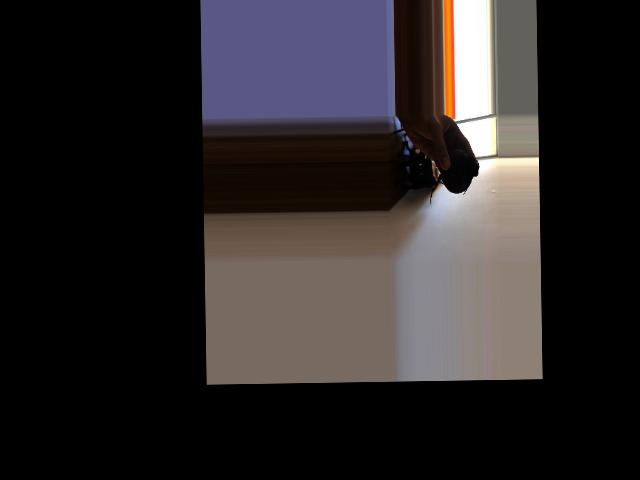beet: (428, 149, 479, 206)
